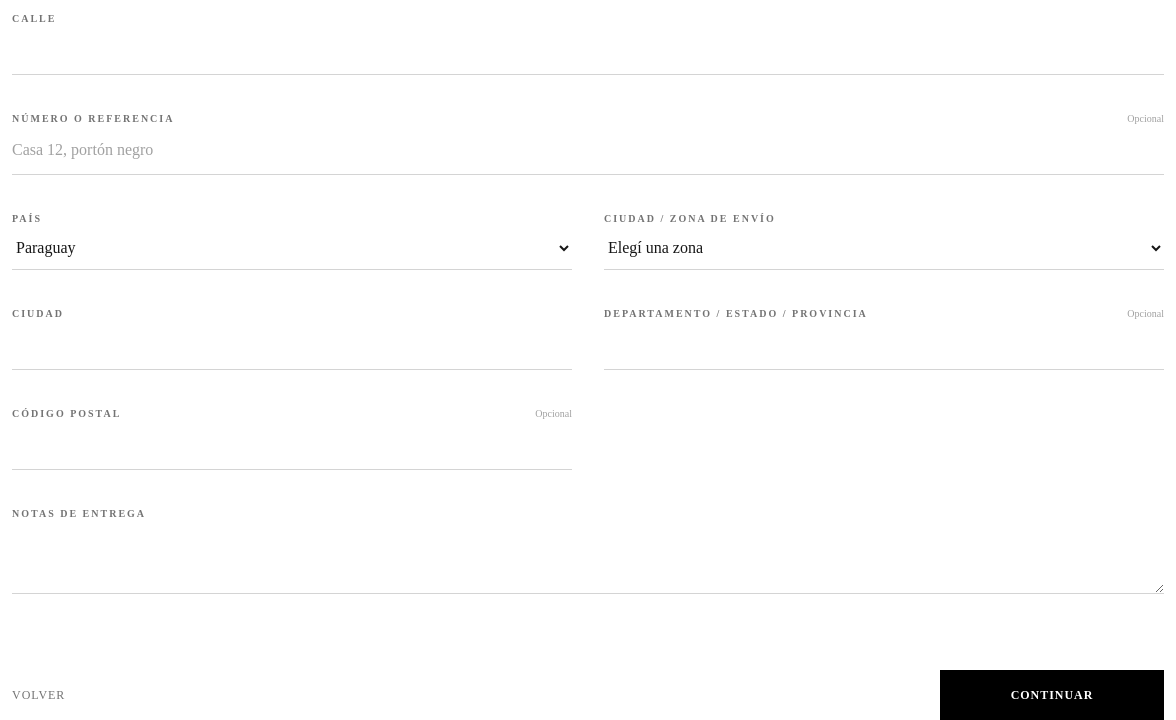
ShippingStep › shows a message per required field and does not continue with an empty form
(page scrolled)
What coordinates should you click on to do the following:
click the button "Continuar"
I would click on:
 (1052, 695)
Its box is [940,670,1164,719].
(page scrolled)
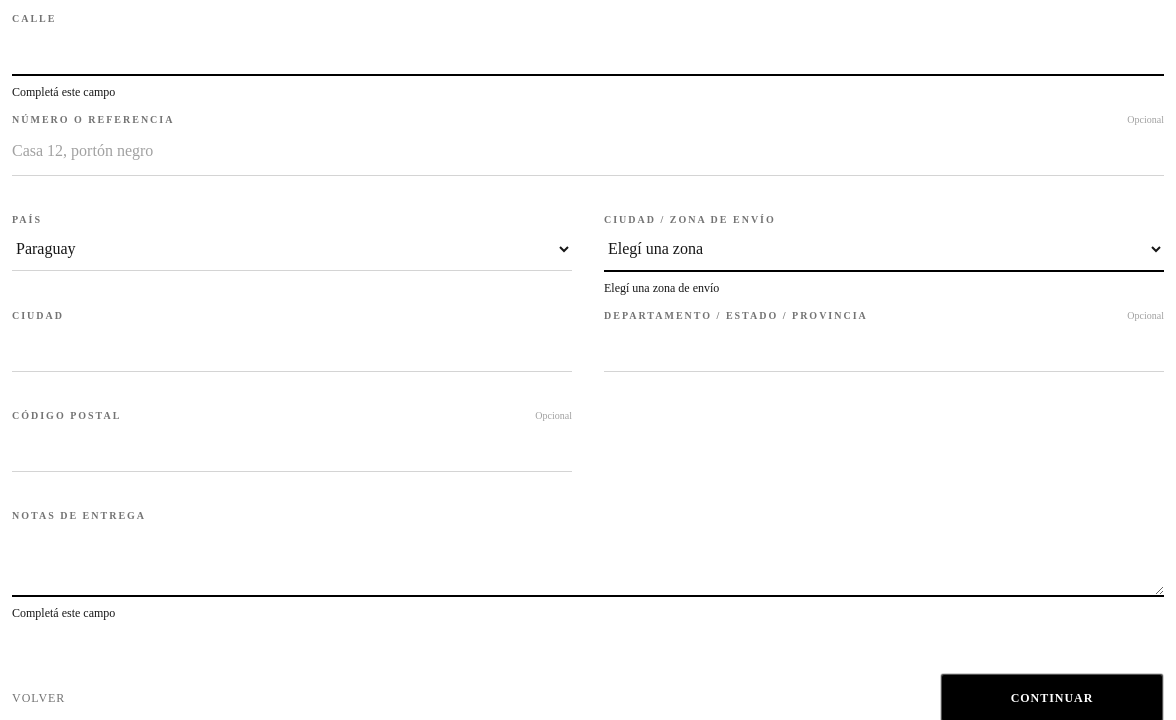
Result: the text "Completá este campo" is shown 5 times
Result: the text "Elegí una zona de envío" is shown at [604,281,719,295]
